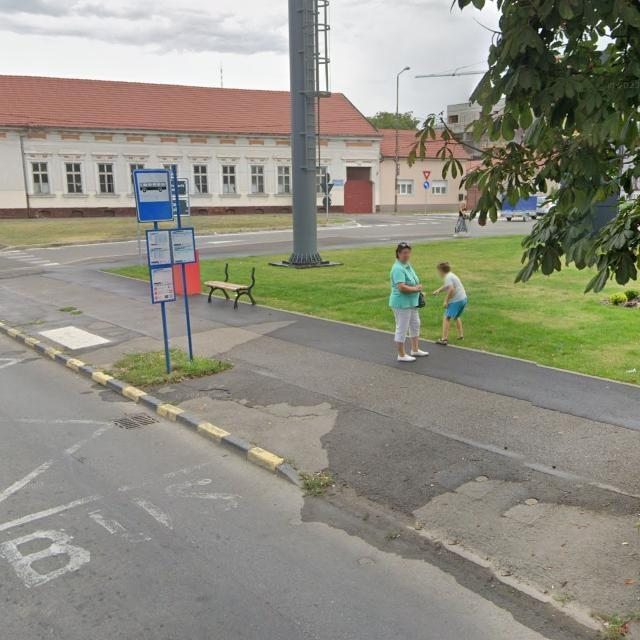prio_give_way: (423, 171, 431, 181)
